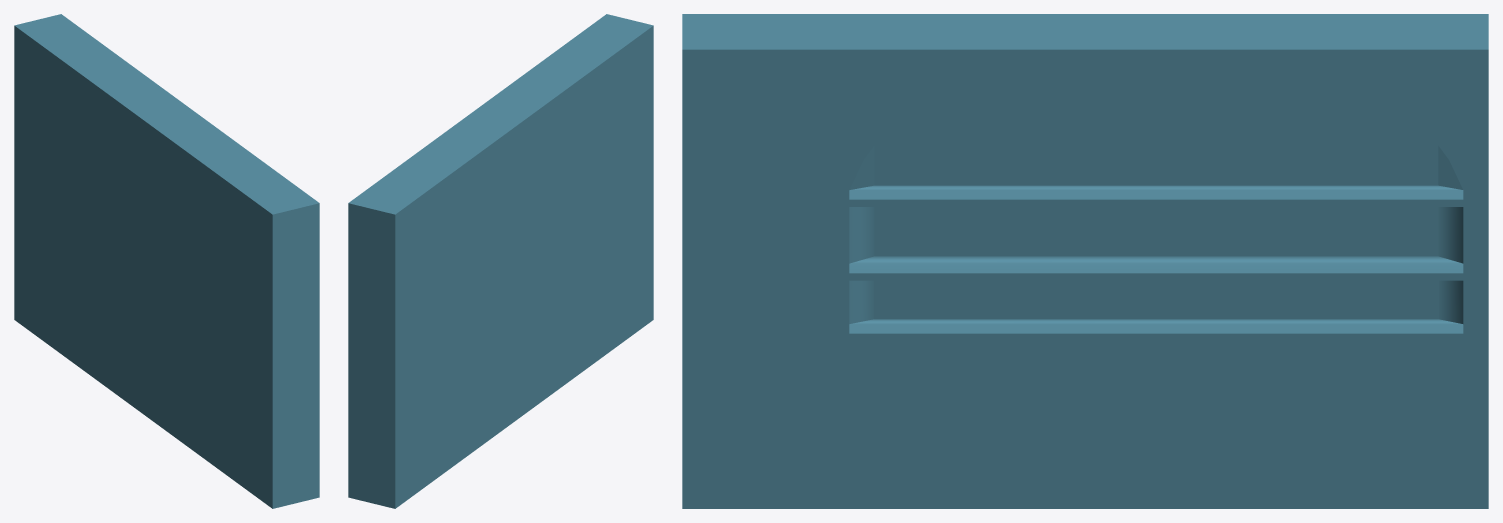
Rendered from MOD_BAR BarWallBack.fbx.
3 renders of one model, left to right at view 1: azimuth 30°, elevation 25°; view 2: azimuth 150°, elevation 25°; view 3: azimuth 270°, elevation 25°, orthographic. The views are drawn at different scales.
Parts seen in each view (by area): view 1: BarWallBack; view 2: BarWallBack; view 3: BarWallBack.
Part boxes in pixels (left/top/right/bottom): BarWallBack: left=14, top=14, right=319, bottom=508; BarWallBack: left=348, top=14, right=653, bottom=508; BarWallBack: left=682, top=14, right=1488, bottom=508.
Size of the model in its own units: 51.01 by 305 by 485.
